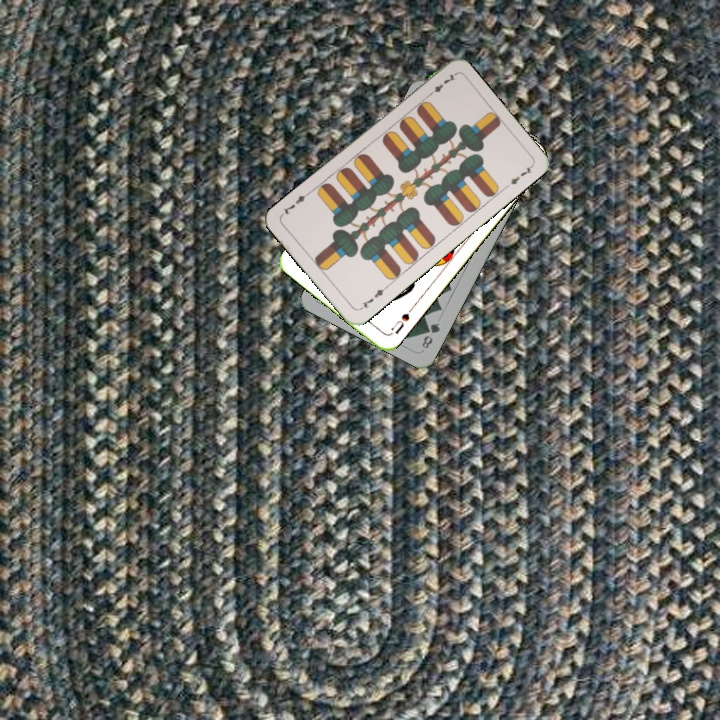E7: (355, 283, 390, 313), (423, 70, 458, 100)
G8: (418, 319, 443, 351)
SU: (387, 303, 416, 337)
